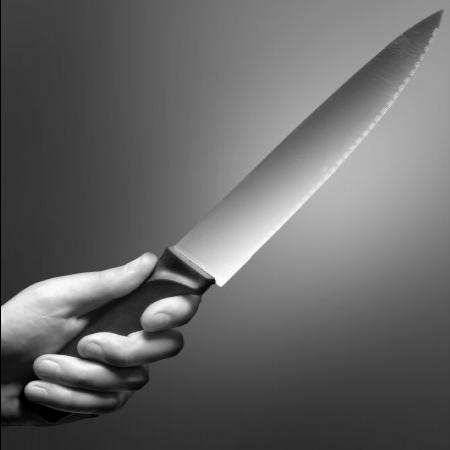long weapon: (72, 6, 442, 367)
